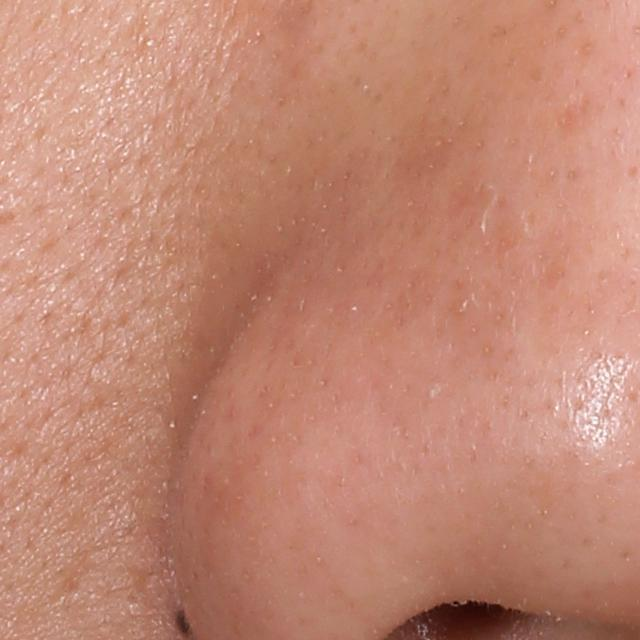nevus: (170, 607, 194, 635)
